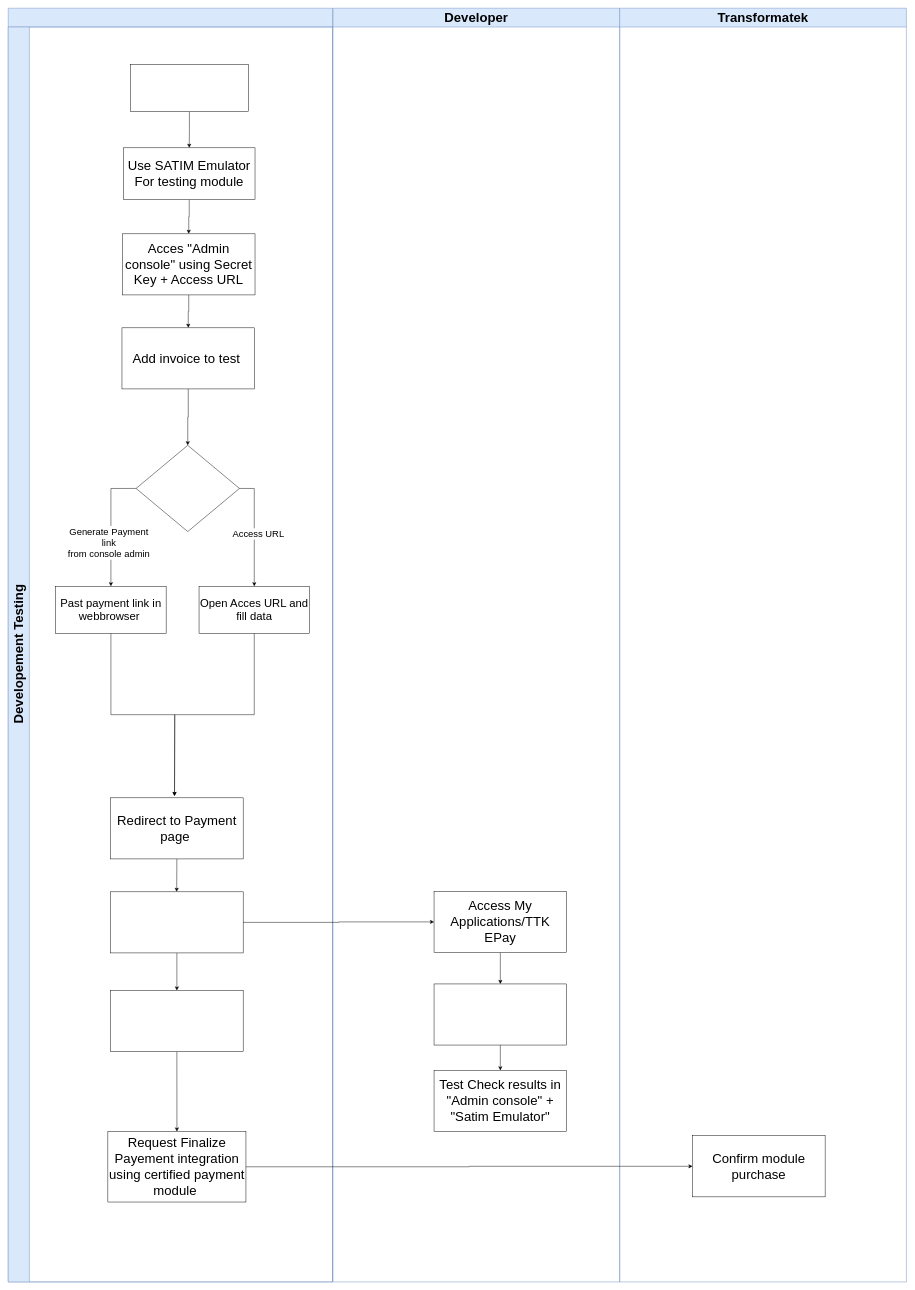
This 915x1290 diagram has some shape labels left out. Each missing label, with the box of its shape:
Busines manager: (8, 8, 333, 1282)
Check results in "Admin console" + "Satim Emulator": (110, 891, 243, 953)
Choose payment method: (136, 445, 239, 532)
Create an account in cibweb.dz: (110, 990, 243, 1052)
Integrate Client module in the base code: (434, 983, 567, 1045)
Purchase module on deploily: (130, 64, 248, 112)
